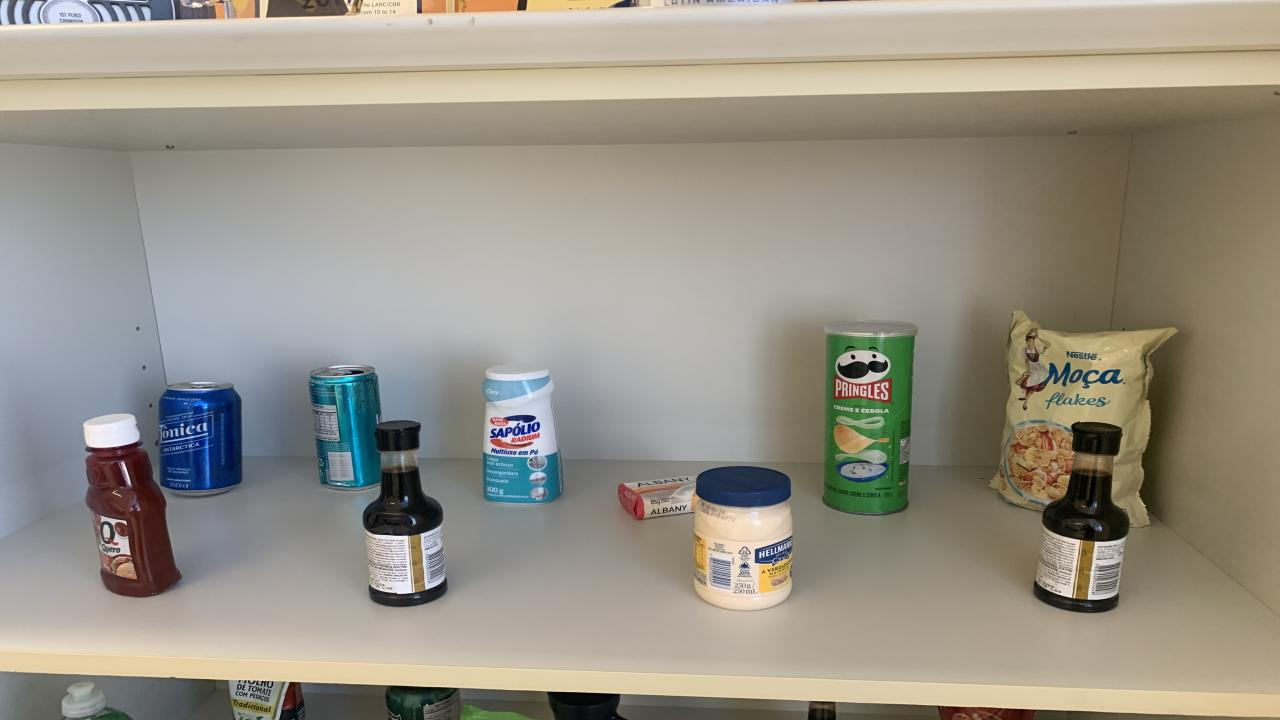Cleaner-Cleanup_Items: (482, 364, 562, 504)
Detergent-Cleanup_Items: (62, 682, 130, 720)
English_Sauce-Pantry_Items: (1032, 422, 1130, 611), (362, 422, 448, 606)
Flakes-Snacks: (990, 311, 1178, 527)
Guarana_Can-Drinks: (385, 686, 462, 720)
Ketchup-Pantry_Items: (82, 414, 180, 596)
Mayonnaise-Pantry_Items: (692, 467, 792, 609)
Pringles-Snacks: (822, 321, 918, 514)
Soap-Cleanup_Items: (618, 476, 698, 519)
Tea-Drinks: (308, 366, 380, 491)
Tomato_Sauce-Pantry_Items: (228, 681, 305, 720), (938, 707, 1035, 720)
Tonic-Drinks: (158, 382, 242, 495)
